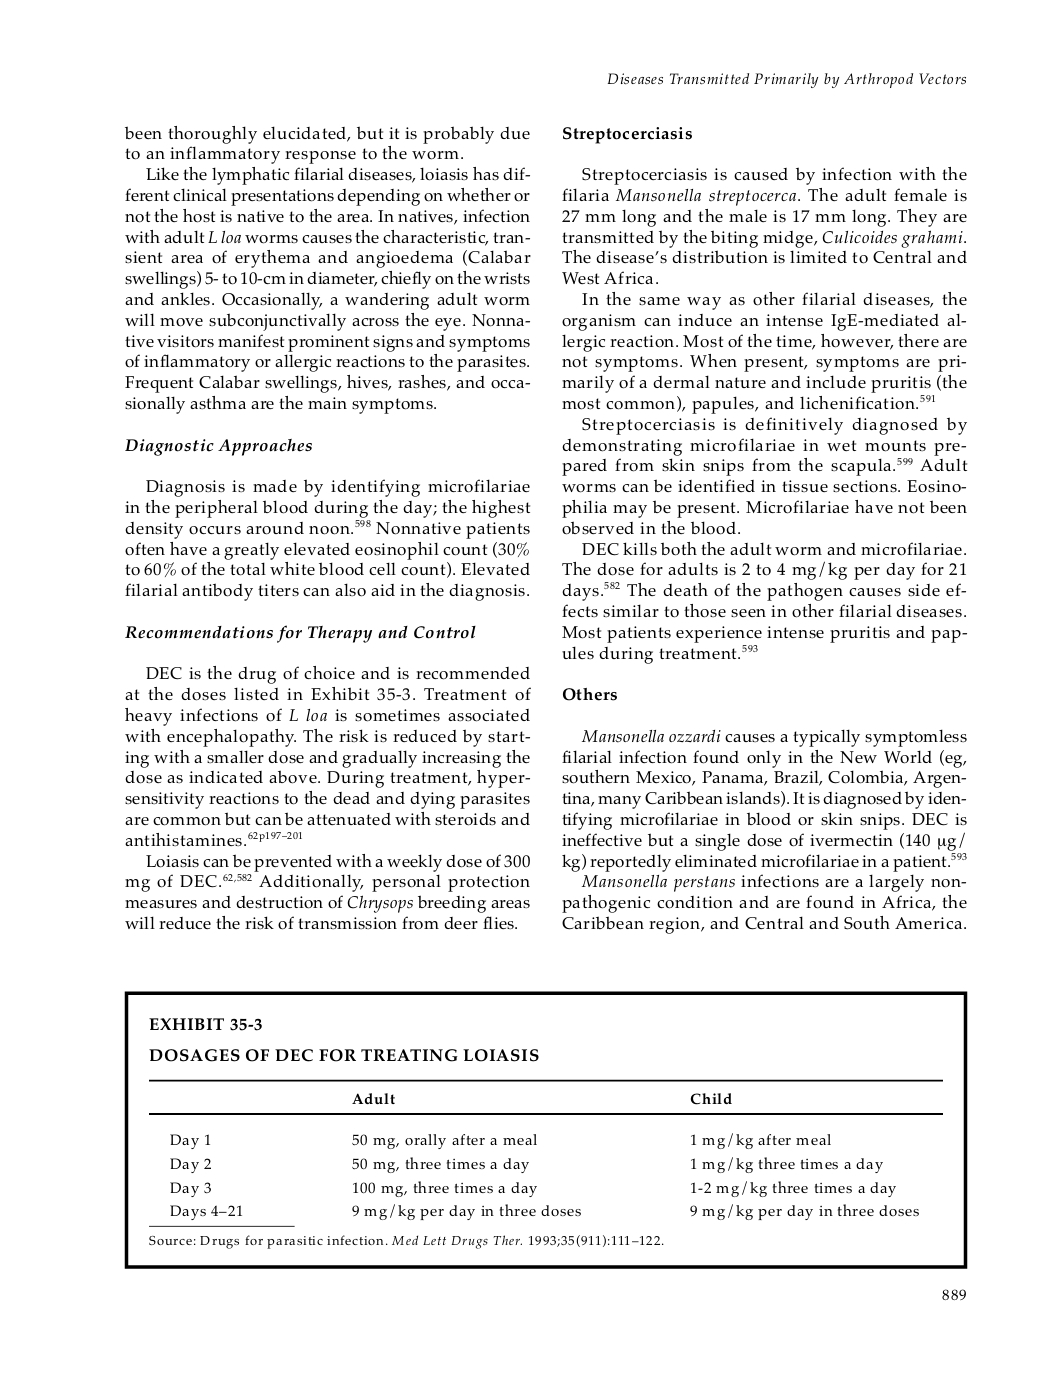Table: (124, 990, 967, 1269)
